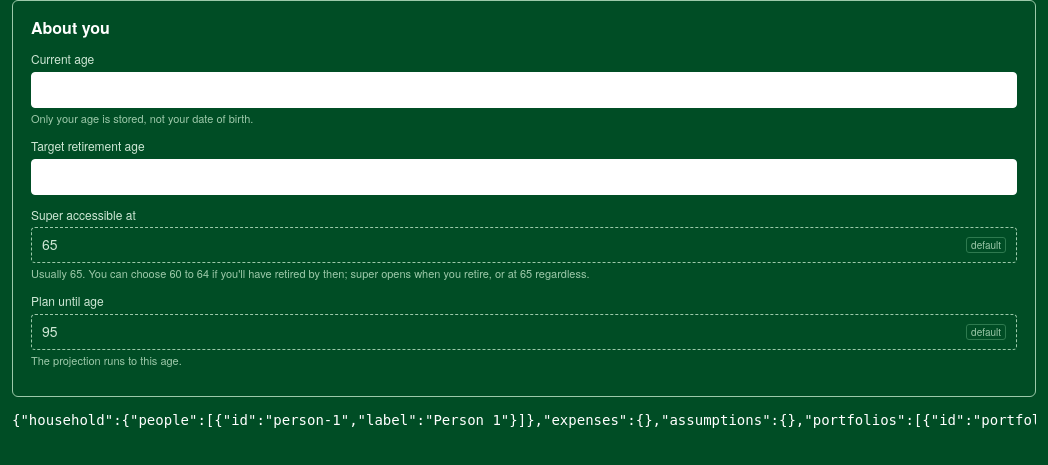
it: PersonAgesSection › rejects plan-until ages outside 50 to 110
Type "111" into the field labelled "Plan until age" at (501, 332), box x1=42 y1=322 x2=960 y2=342
Then press Enter
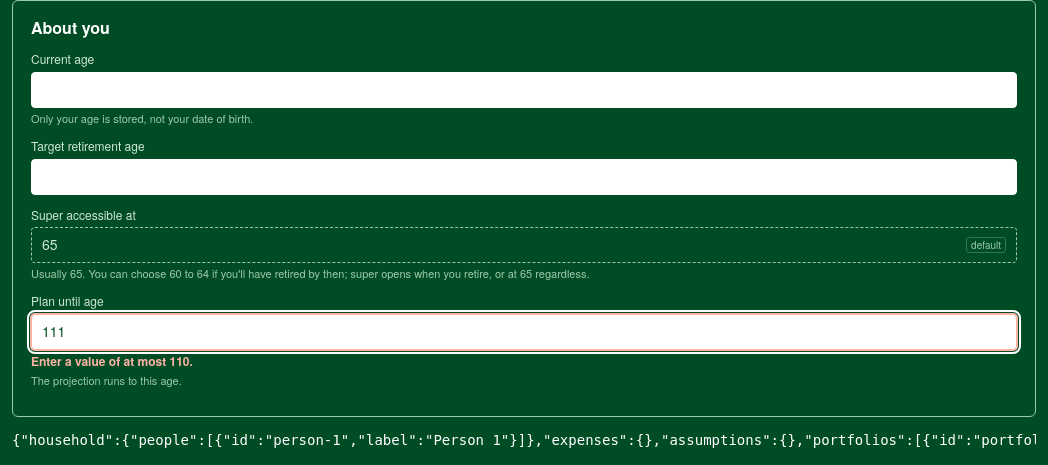
expect the text "Enter a value of at most 110." is shown: met, box x1=31 y1=352 x2=193 y2=370
Replace the text in the field labelled "Plan until age" with "49" at (524, 332), box x1=42 y1=322 x2=1006 y2=342
Then press Enter
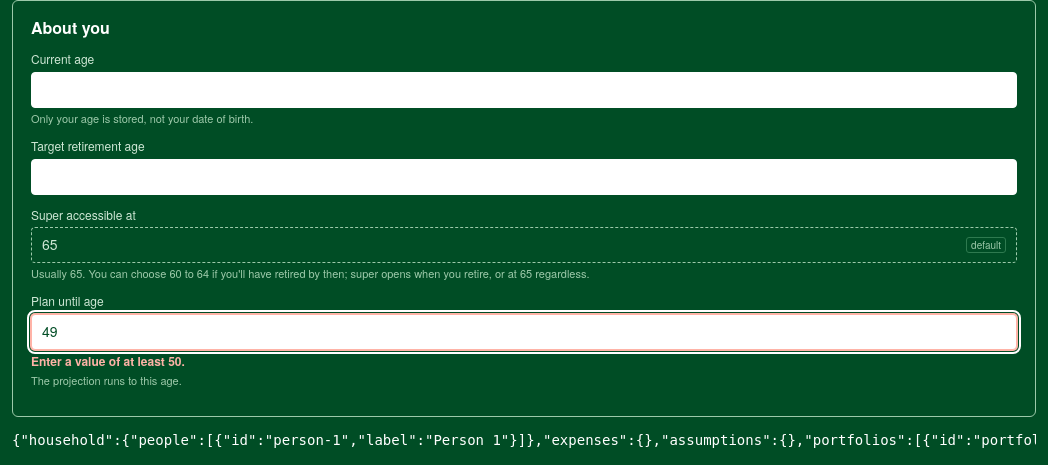
expect the text "Enter a value of at least 50." is shown: met, box x1=31 y1=352 x2=185 y2=370
